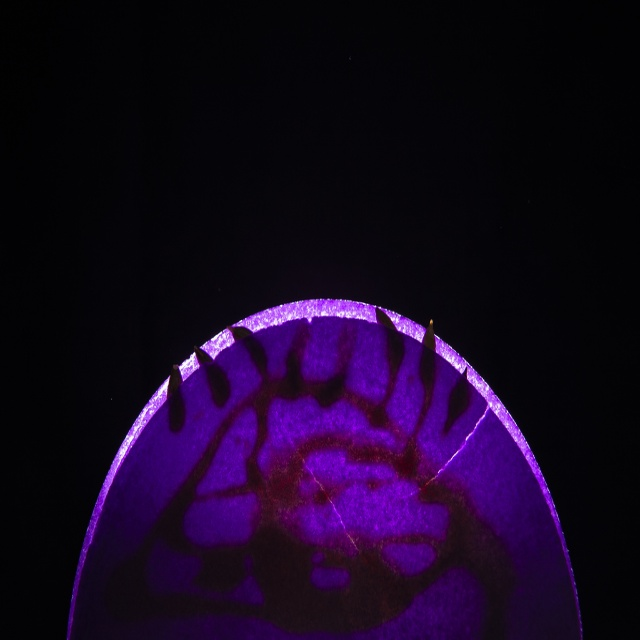Jellyfish: (85, 270, 609, 638)
